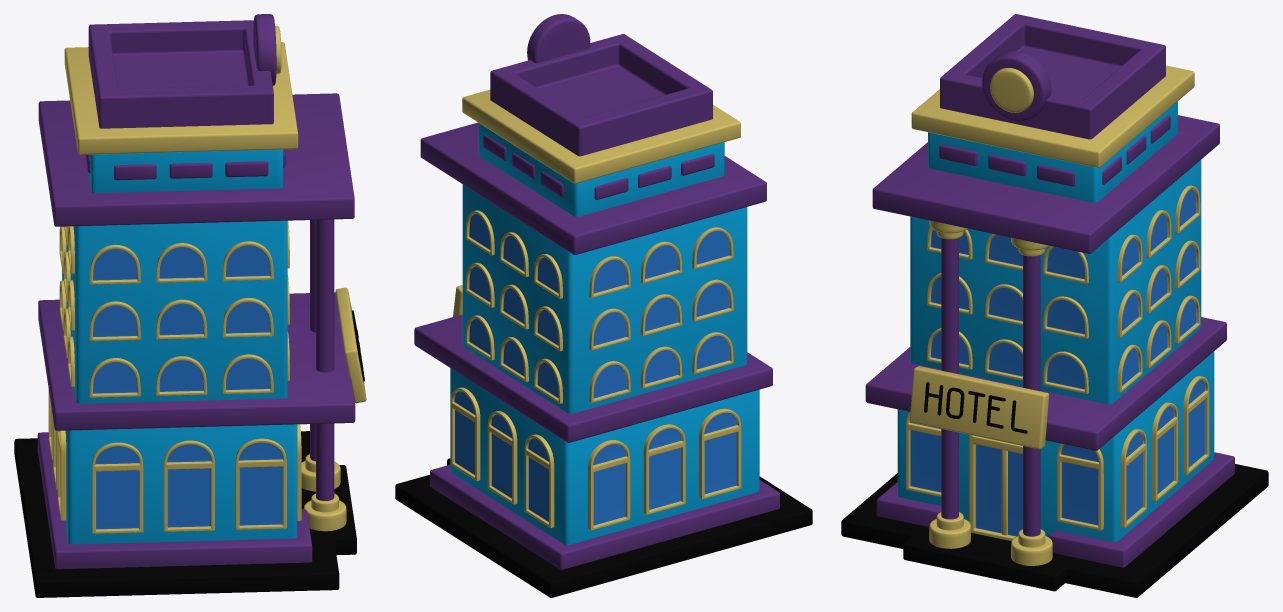
File: 1.Hotel.glb
3 renders of one model, left to right at view 1: azimuth 30°, elevation 25°; view 2: azimuth 150°, elevation 25°; view 3: azimuth 270°, elevation 25°, orthographic. The views are drawn at different scales.
Parts seen in each view (by area): view 1: Cube.001, Cube.005, Cube.007, Cylinder.021, Cube.002, Cube.013, Cylinder.025, Cube.003, Cube.006, Cube.008, Cube.004, Cylinder.013 (+9 smaller); view 2: Cube.001, Cube.007, Cube.003, Cube.005, Cube.013, Cylinder.019, Cube.002, Cylinder.026, Cube.008, Cylinder.020, Cube.006, Cylinder.024 (+4 smaller); view 3: Cube.001, Cube.005, Cube.007, Cube.013, Cylinder.018, Cube.003, Cube.002, Cube.006, Cylinder.020, Cube.015, Cylinder.024, Cube.008 (+14 smaller).
Boxes of the visible parts, left/top/right/bottom form: Cube.001: left=62, top=220, right=287, bottom=403; Cube.005: left=38, top=93, right=354, bottom=226; Cube.007: left=88, top=20, right=273, bottom=128; Cylinder.021: left=89, top=241, right=273, bottom=397; Cube.002: left=38, top=292, right=355, bottom=430; Cube.013: left=14, top=431, right=356, bottom=597; Cylinder.025: left=92, top=438, right=286, bottom=533; Cube.003: left=64, top=424, right=297, bottom=544; Cube.006: left=64, top=42, right=298, bottom=154; Cube.008: left=37, top=432, right=312, bottom=569; Cube.004: left=88, top=149, right=283, bottom=193; Cylinder.013: left=316, top=219, right=334, bottom=500; Cube.001: left=462, top=184, right=747, bottom=413; Cube.007: left=490, top=34, right=712, bottom=156; Cube.003: left=450, top=368, right=759, bottom=544; Cube.005: left=420, top=122, right=766, bottom=254; Cube.013: left=395, top=458, right=812, bottom=597; Cylinder.019: left=589, top=227, right=733, bottom=402; Cube.002: left=414, top=314, right=772, bottom=442; Cylinder.026: left=588, top=408, right=741, bottom=530; Cube.008: left=430, top=465, right=779, bottom=569; Cylinder.020: left=465, top=210, right=562, bottom=403; Cube.006: left=462, top=89, right=740, bottom=183; Cylinder.024: left=450, top=387, right=554, bottom=528; Cube.001: left=910, top=160, right=1201, bottom=404; Cube.005: left=872, top=115, right=1219, bottom=253; Cube.007: left=940, top=14, right=1165, bottom=139; Cube.013: left=841, top=464, right=1268, bottom=597; Cylinder.018: left=927, top=226, right=1088, bottom=393; Cube.003: left=897, top=351, right=1214, bottom=541; Cube.002: left=865, top=317, right=1226, bottom=450; Cube.006: left=911, top=65, right=1194, bottom=167; Cylinder.020: left=1117, top=185, right=1200, bottom=392; Cube.015: left=909, top=366, right=1049, bottom=449; Cylinder.024: left=1121, top=376, right=1209, bottom=528; Cube.008: left=876, top=452, right=1234, bottom=567.
Size of the model in its own units: 1.42 by 1.86 by 1.47.
